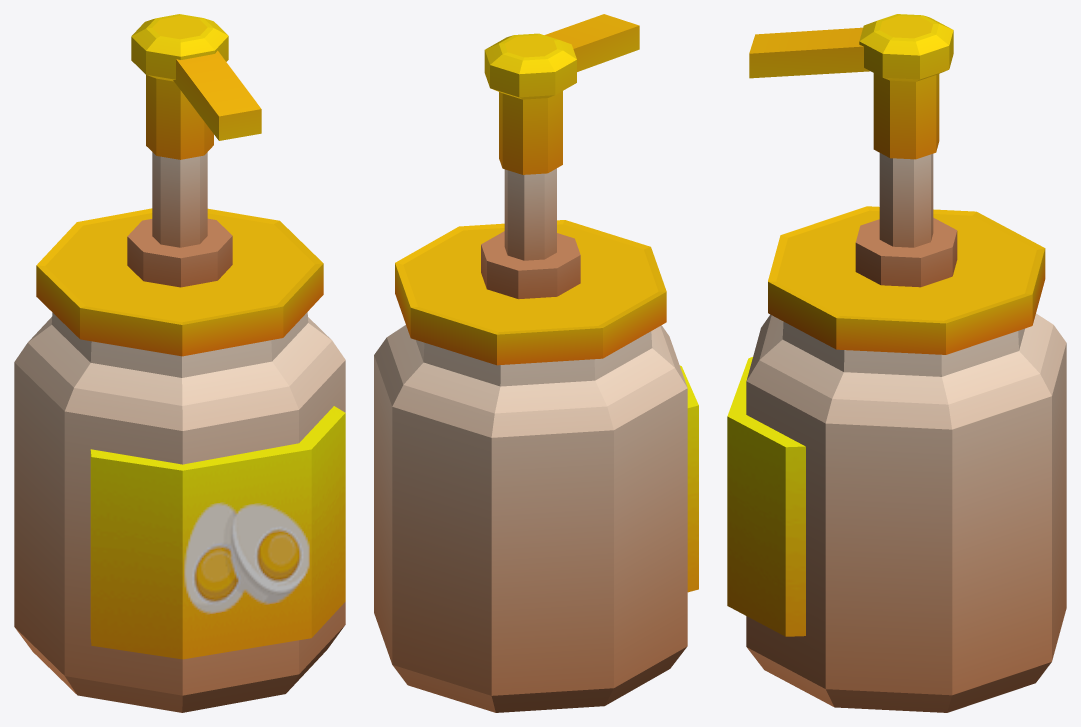
File: PotSauce_Jaune.fbx
3 renders of one model, left to right at view 1: azimuth 30°, elevation 25°; view 2: azimuth 150°, elevation 25°; view 3: azimuth 270°, elevation 25°, orthographic. The views are drawn at different scales.
Parts seen in each view (by area): view 1: Cube.074, Cube.075, Cube.055; view 2: Cube.074, Cube.055, Cube.075; view 3: Cube.074, Cube.055, Cube.075.
Part boxes in pixels (x1,y1,x2,y2): Cube.074: (14,208,345,712); Cube.075: (90,406,345,659); Cube.055: (131,14,261,247); Cube.074: (374,220,687,712); Cube.055: (484,14,639,260); Cube.075: (680,365,698,592); Cube.074: (746,206,1066,712); Cube.055: (749,14,953,247); Cube.075: (727,357,805,636).
Bounding box in the file's own units: 16.52 × 35.64 × 17.51.
